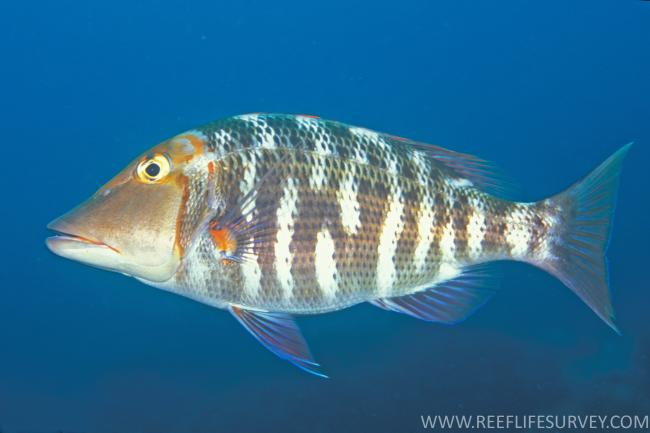fish: (44, 111, 637, 379)
